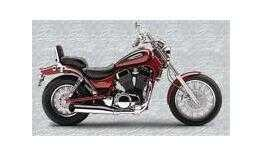motorcycle: (38, 23, 222, 127)
